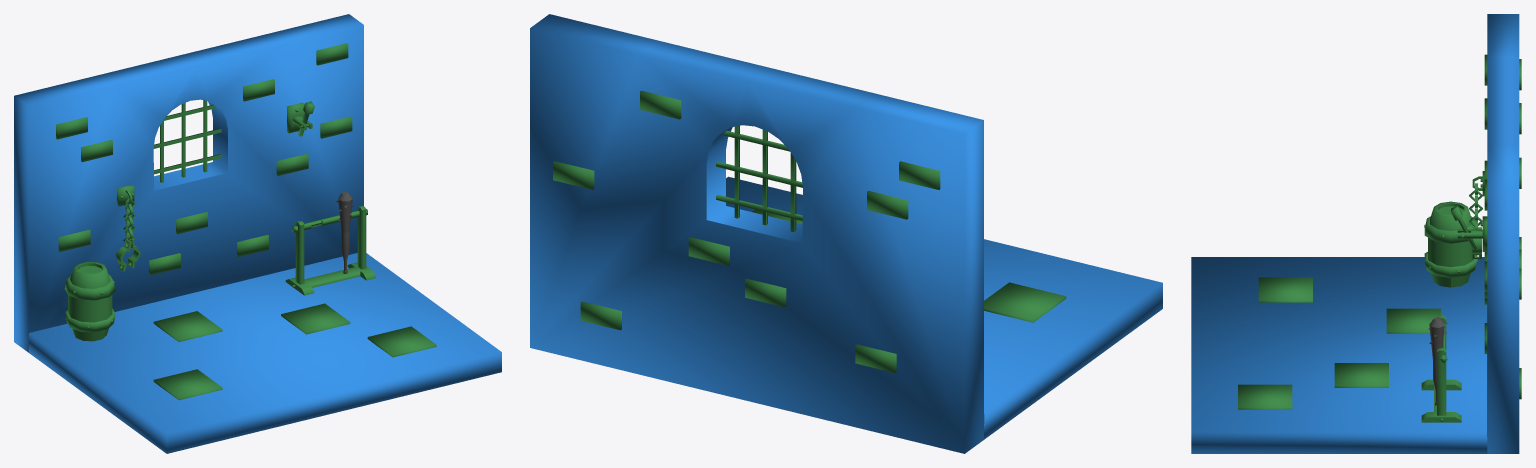
File: LowPolySkeleton_Background_Unity.fbx
The picture shows the model from 3 angles, left to right: view 1: azimuth 30°, elevation 25°; view 2: azimuth 150°, elevation 25°; view 3: azimuth 270°, elevation 25°; orthographic projection. The views are drawn at different scales.
Parts seen in each view (by area): view 1: Background, BrickWall, FloorBrick, Barrel, WeaponRack, Lattice, Shackles, LowPolySkeleton_Mace, Torch; view 2: Background, BrickWall, Lattice, FloorBrick; view 3: Background, FloorBrick, Barrel, WeaponRack, BrickWall, Torch, Shackles, LowPolySkeleton_Mace.
Boxes of the visible parts, <box> form: Background: <box>14,14,501,453</box>; BrickWall: <box>56,43,352,275</box>; FloorBrick: <box>153,303,436,400</box>; Barrel: <box>64,261,115,341</box>; WeaponRack: <box>285,205,375,295</box>; Lattice: <box>153,100,221,182</box>; Shackles: <box>116,185,140,271</box>; LowPolySkeleton_Mace: <box>336,191,353,273</box>; Torch: <box>287,101,314,136</box>; Background: <box>530,14,1162,453</box>; BrickWall: <box>553,90,940,373</box>; Lattice: <box>716,125,802,231</box>; FloorBrick: <box>752,209,1066,322</box>; Background: <box>1191,14,1519,453</box>; FloorBrick: <box>1238,277,1440,409</box>; Barrel: <box>1424,201,1477,287</box>; WeaponRack: <box>1421,316,1461,422</box>; BrickWall: <box>1484,54,1521,399</box>; Torch: <box>1451,205,1487,251</box>; Shackles: <box>1469,171,1484,258</box>; LowPolySkeleton_Mace: <box>1428,317,1446,405</box>.
Size of the model in its own units: 229 by 182 by 161.
